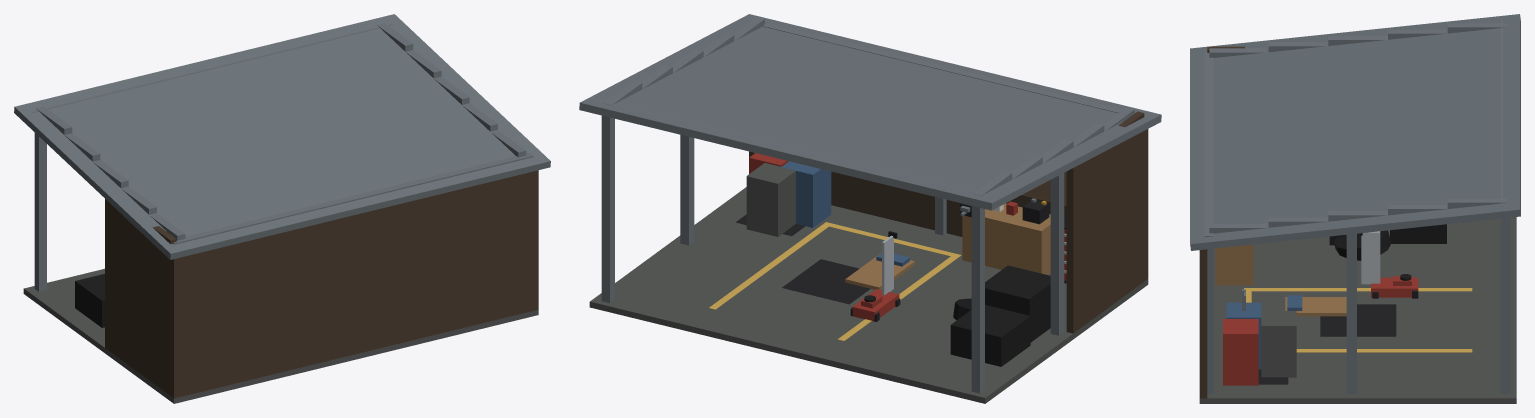
Rendered from camp_mechanic.glb.
The picture shows the model from 3 angles, left to right: view 1: azimuth 30°, elevation 25°; view 2: azimuth 150°, elevation 25°; view 3: azimuth 270°, elevation 25°; orthographic projection. The views are drawn at different scales.
Visible parts, largest first — view 1: camp_mechanic; view 2: camp_mechanic; view 3: camp_mechanic.
Boxes of the visible parts, x1,y1,x2,y2 form: camp_mechanic: (14,14,550,403); camp_mechanic: (579,14,1161,403); camp_mechanic: (1190,14,1520,403).
Size of what is drawn, in the model's own units: 7.3 by 3.46 by 5.21.
2 materials, 2 textured.
